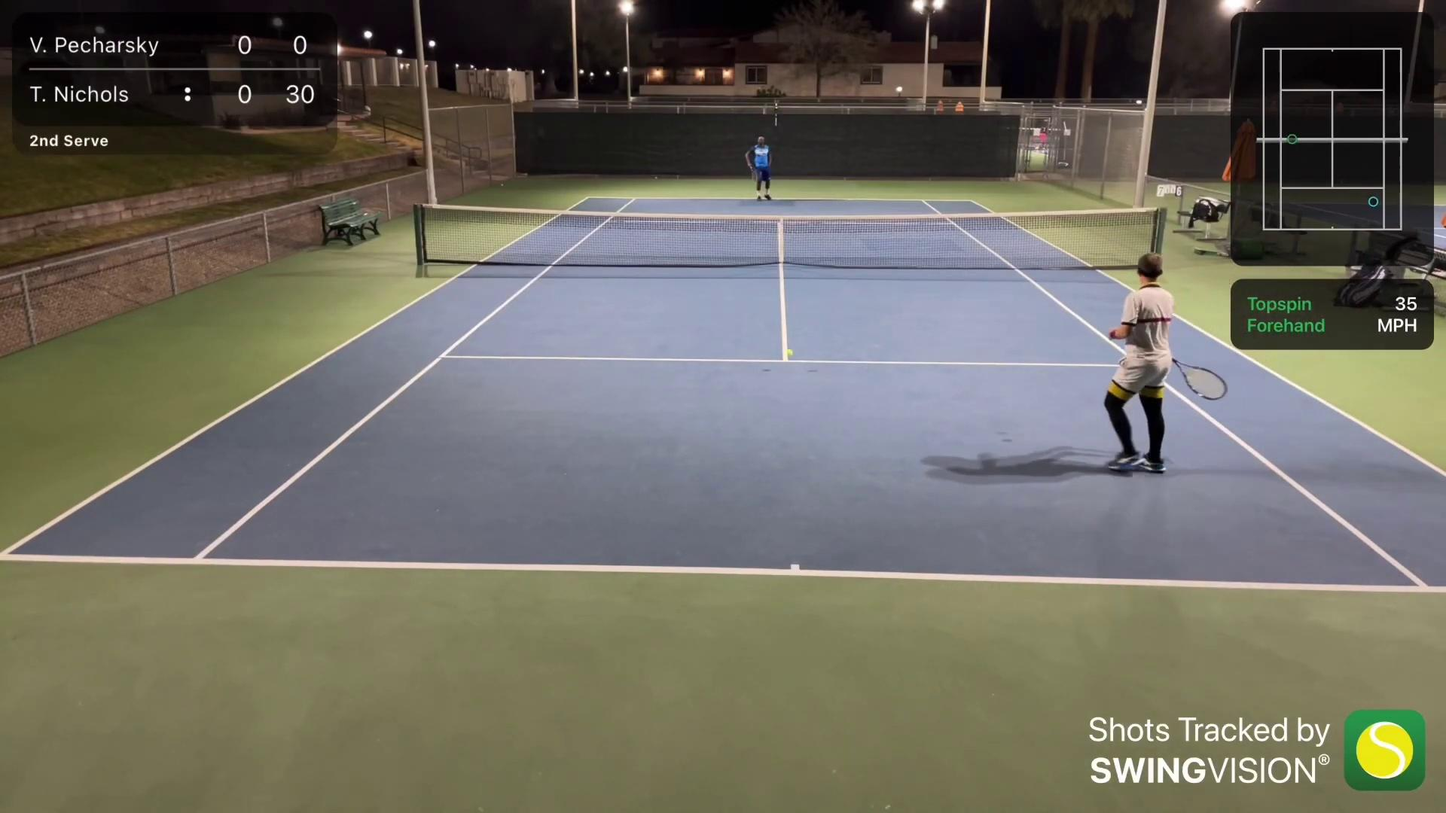ball: (782, 346, 799, 362)
